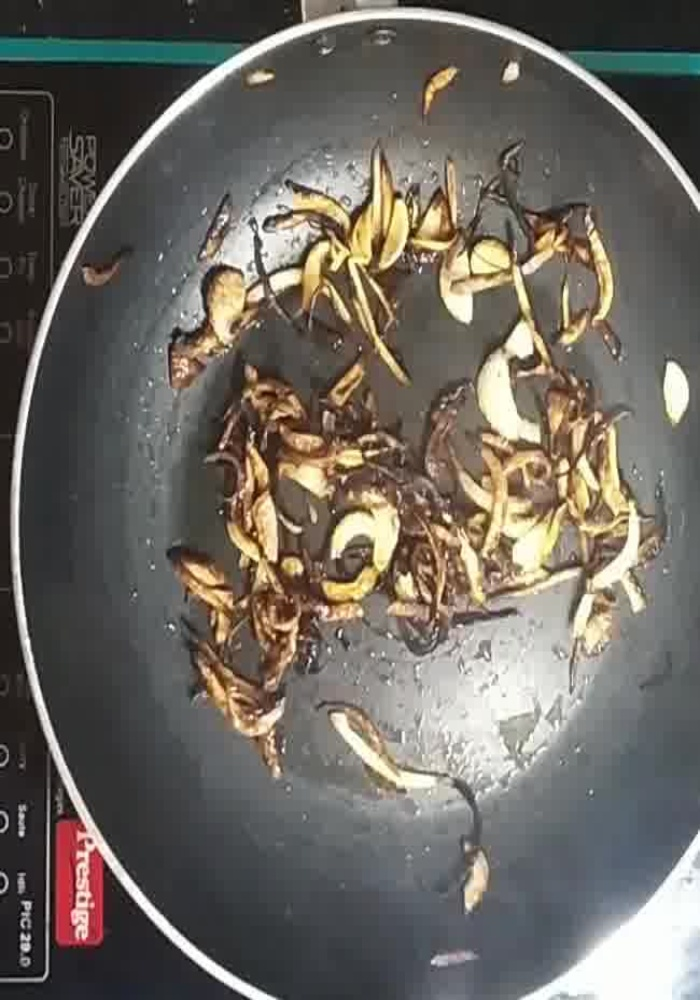onion_burnt: (440, 155, 615, 360), (181, 213, 445, 310), (527, 379, 645, 591), (213, 378, 289, 591), (178, 631, 283, 747), (316, 391, 403, 496), (384, 511, 461, 623), (471, 456, 540, 573), (191, 276, 248, 390), (247, 588, 318, 664), (414, 381, 464, 481)
